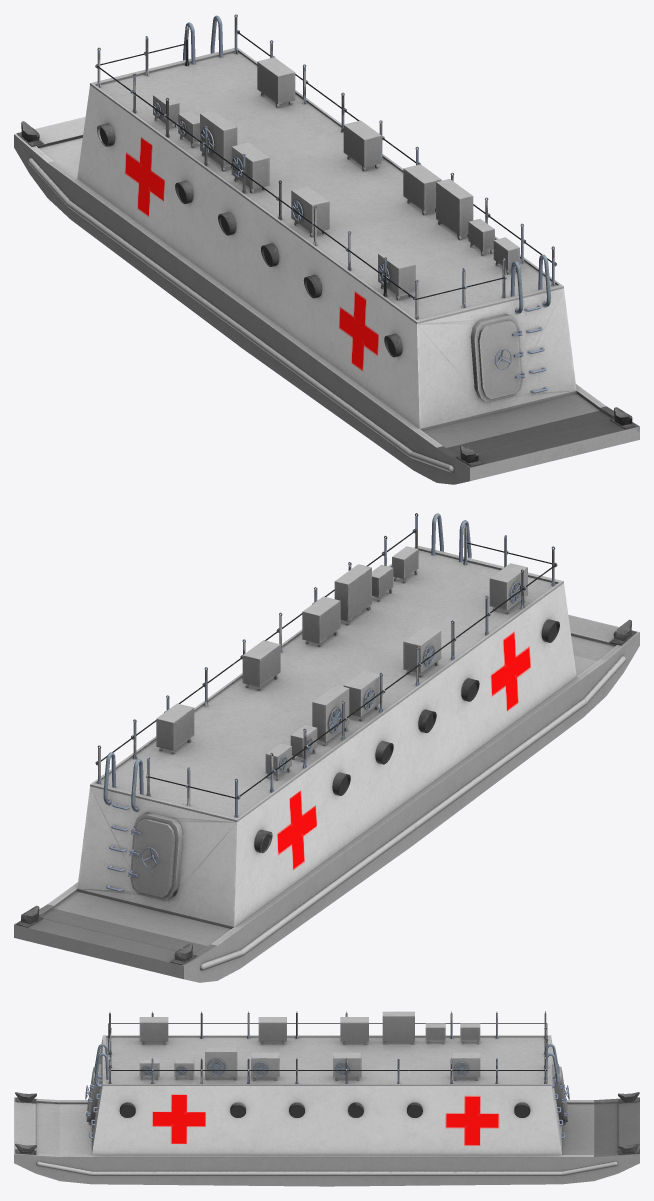
The model's file is Bongo.gltf.
3 renders of one model, top to bottom at view 1: azimuth 30°, elevation 25°; view 2: azimuth 150°, elevation 25°; view 3: azimuth 270°, elevation 25°, orthographic. The views are drawn at different scales.
Visible parts, largest first — view 1: Bongo2, ventiladores:pCube43, pCube43, pCylinder21, pSphere4, varandales_bongo_Escaleras1, pCylinder27; view 2: Bongo2, ventiladores:pCube43, pCube43, puerta:pCylinder21, pSphere4, varandales_bongo_Escaleras, varandales_bongo_Escaleras1, pCylinder27; view 3: Bongo2, pCube43, ventiladores:pCube43, pSphere3, puerta:pCylinder21, pCylinder21, pCylinder31, varandales_bongo_Escaleras1, pCylinder27, varandales_bongo_Escaleras.
Part boxes in pixels (x1,y1,x2,y2): Bongo2: [14, 47, 639, 484]; ventiladores:pCube43: [257, 57, 519, 274]; pCube43: [153, 92, 415, 300]; pCylinder21: [471, 314, 525, 402]; pSphere4: [28, 158, 453, 472]; varandales_bongo_Escaleras1: [510, 254, 550, 314]; pCylinder27: [97, 66, 416, 299]; Bongo2: [14, 545, 639, 982]; ventiladores:pCube43: [156, 546, 418, 754]; pCube43: [265, 563, 527, 780]; puerta:pCylinder21: [128, 812, 182, 900]; pSphere4: [200, 656, 625, 970]; varandales_bongo_Escaleras: [103, 752, 143, 811]; varandales_bongo_Escaleras1: [431, 513, 471, 562]; pCylinder27: [236, 565, 555, 798]; Bongo2: [14, 1035, 639, 1186]; pCube43: [139, 1011, 480, 1044]; ventiladores:pCube43: [139, 1047, 480, 1080]; pSphere3: [36, 1161, 617, 1176]; puerta:pCylinder21: [552, 1063, 569, 1125]; pCylinder21: [85, 1064, 101, 1125]; pCylinder31: [108, 1070, 547, 1070]; varandales_bongo_Escaleras1: [94, 1043, 108, 1088]; pCylinder27: [111, 1023, 546, 1023]; varandales_bongo_Escaleras: [544, 1043, 558, 1087].
Bounding box in the file's own units: 28.48 × 28.15 × 128.
Materials: 1 (1 with a texture image).
